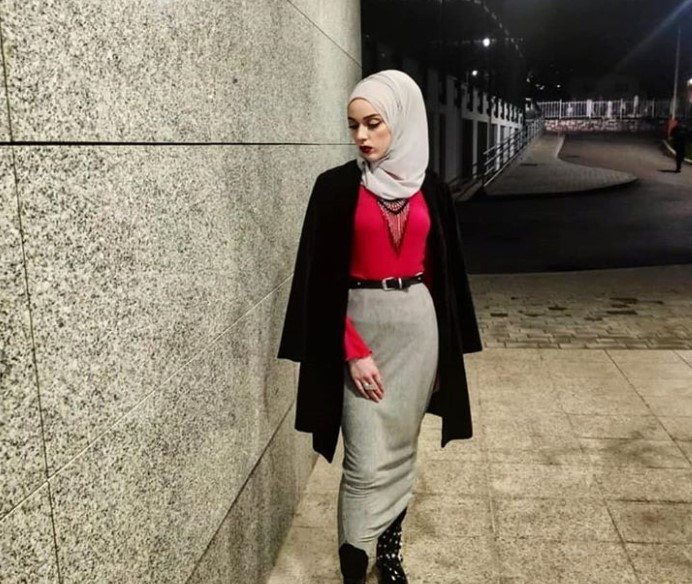face_no_mask: (345, 82, 405, 165)
